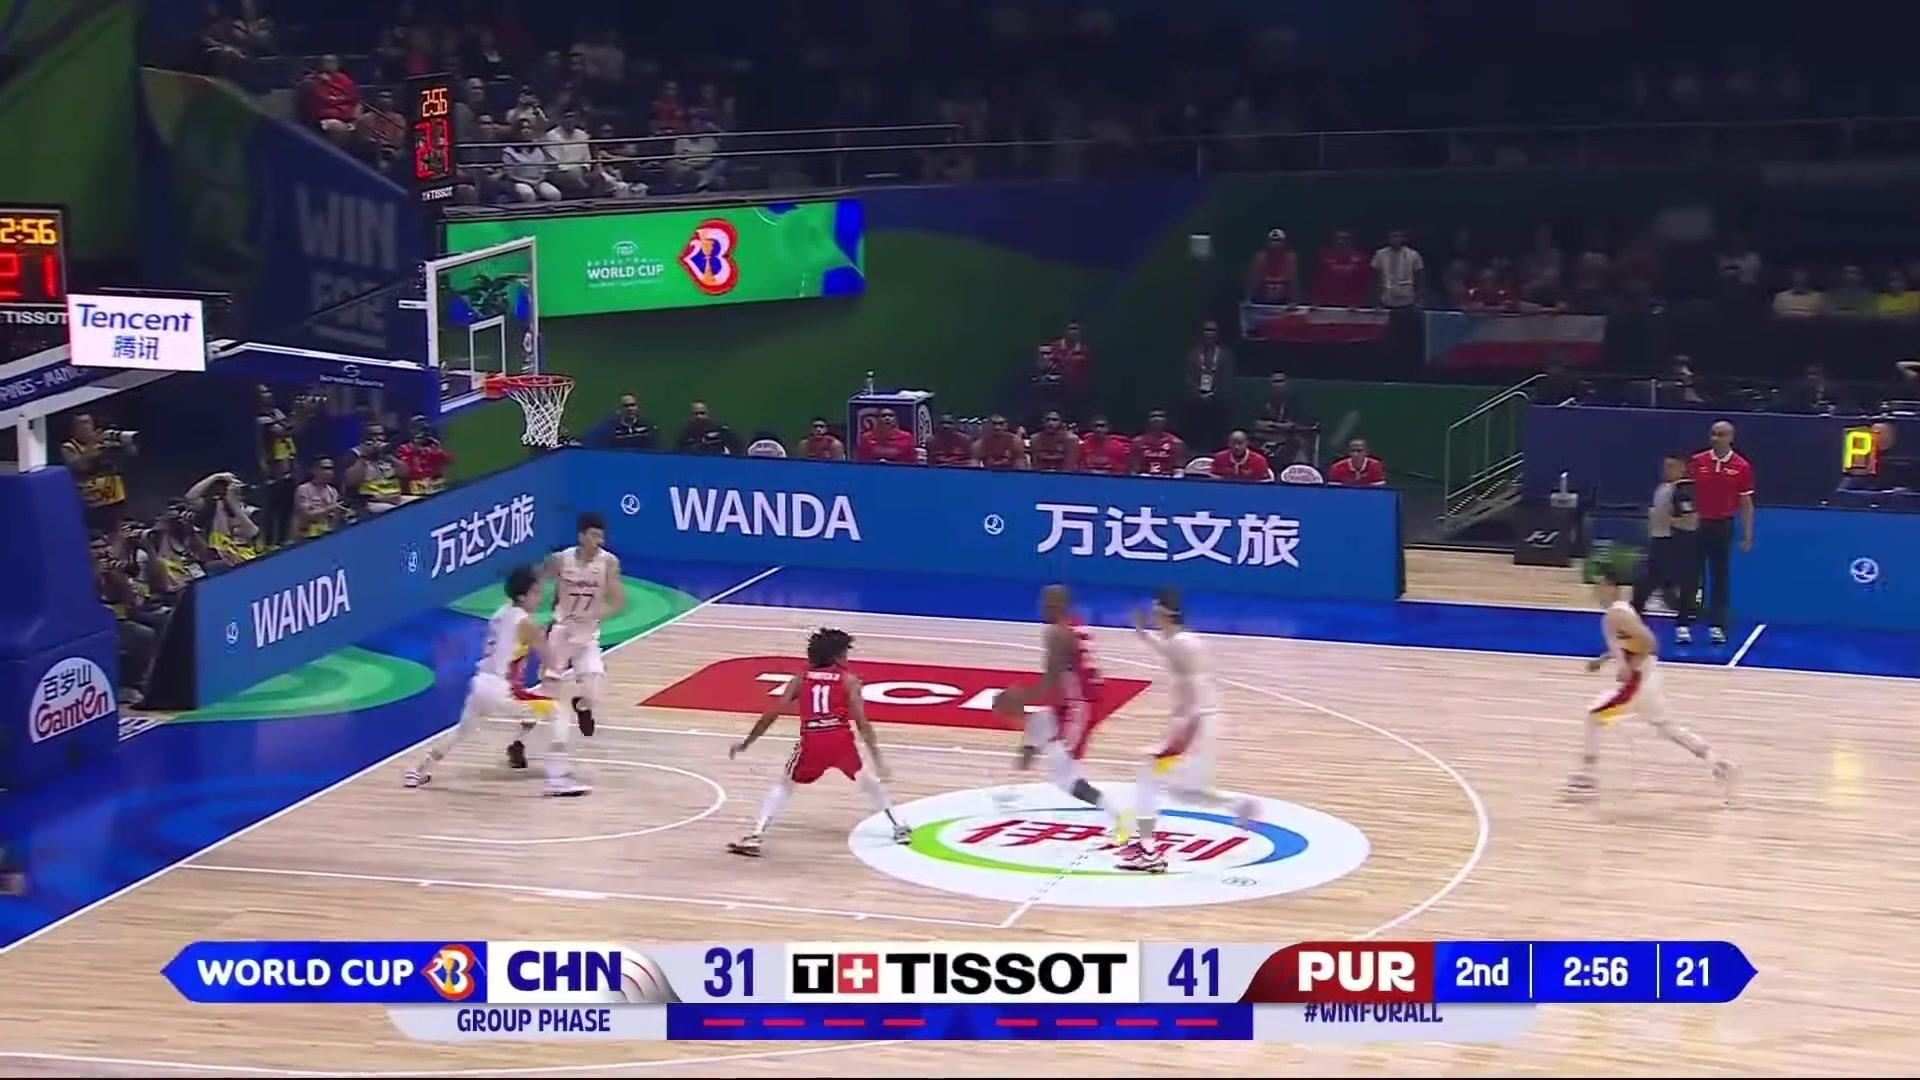no_foul: (996, 564, 1262, 852)
